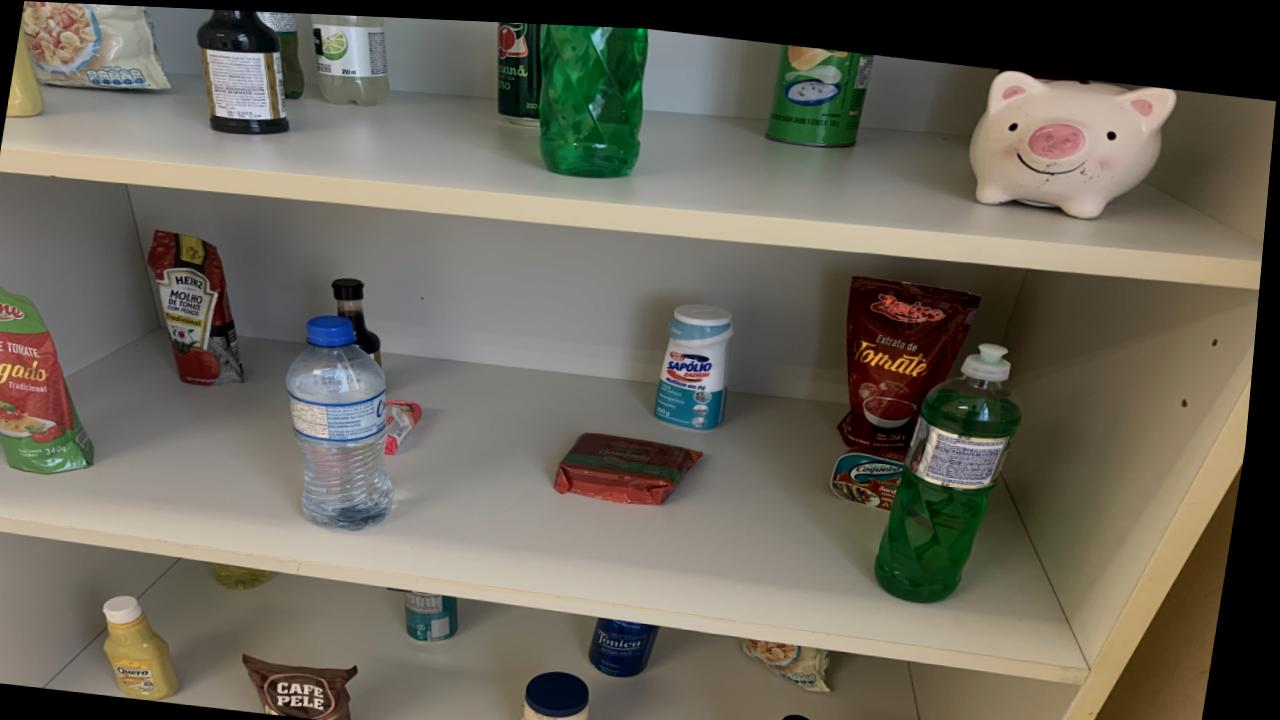Cleaner-Cleanup_Items: (661, 296, 739, 423)
Coffee-Pantry_Items: (254, 651, 369, 719)
Detergent-Cleanup_Items: (884, 335, 1028, 593), (539, 19, 648, 172), (222, 559, 279, 587)
English_Sauce-Pantry_Items: (197, 7, 291, 132), (336, 273, 387, 360), (792, 706, 827, 720)
Flakes-Snacks: (21, 1, 171, 89), (752, 630, 843, 684)
Guarana-Drinks: (256, 9, 306, 95)
Guarana_Can-Drinks: (496, 17, 543, 121)
Guava-Snacks: (563, 426, 709, 498)
Mayonnaise-Pantry_Items: (532, 665, 602, 720)
Mustard-Pantry_Items: (112, 593, 193, 697), (8, 26, 45, 116)
Pig_Safe-Miscellaneous: (971, 60, 1178, 208)
Pringles-Snacks: (767, 37, 873, 139)
Soap-Cleanup_Items: (392, 395, 430, 451)
Soda-Drinks: (309, 11, 391, 103)
Tea-Drinks: (414, 587, 469, 637)
Tomato_Sauce-Pantry_Items: (844, 268, 986, 451), (0, 283, 102, 473), (151, 229, 251, 384)
Tonic-Drinks: (600, 611, 670, 671)
Tuna_Can-Pantry_Items: (838, 442, 911, 501)
Water_Bottle-Drinks: (291, 311, 402, 526)
